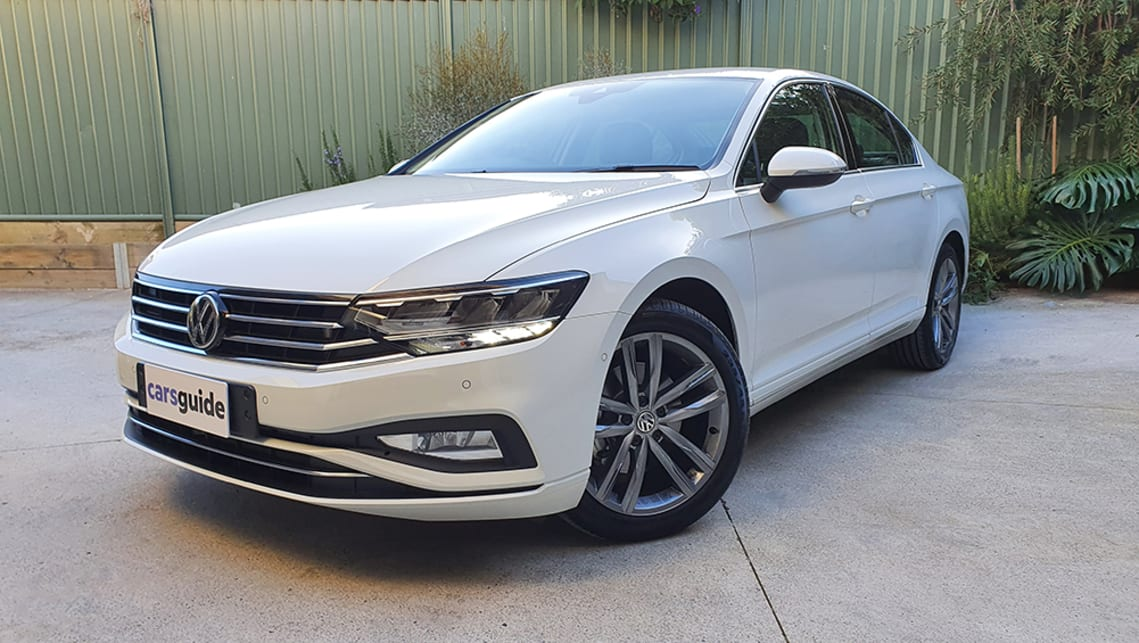car: (113, 65, 972, 545)
